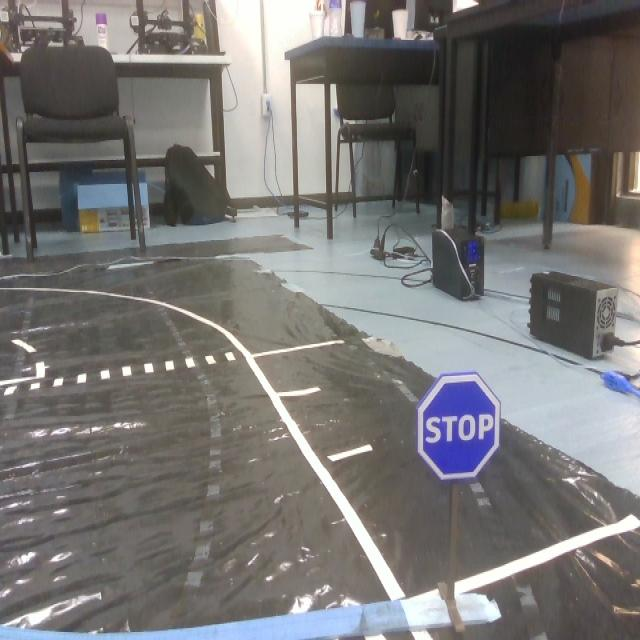no_entry: (418, 372, 496, 488)
